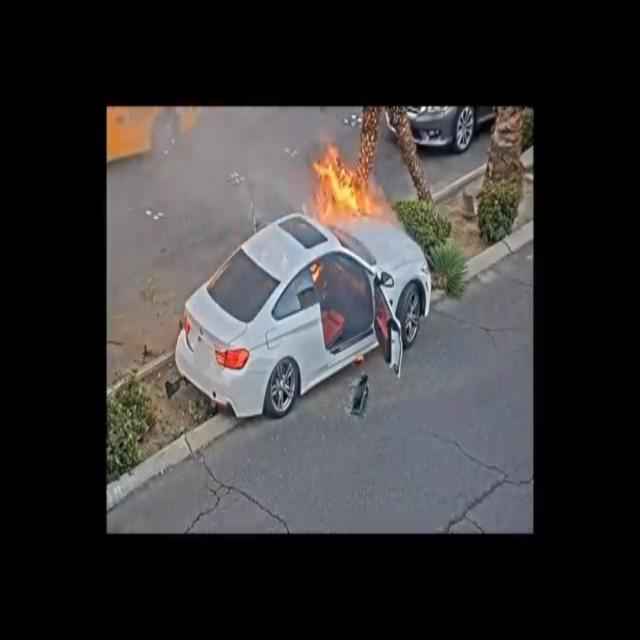fire: (312, 152, 384, 228)
